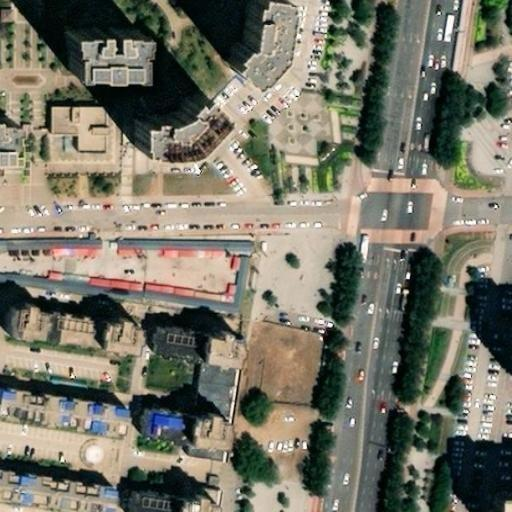building: (6, 400, 138, 450), (223, 6, 285, 101), (145, 117, 234, 179), (75, 34, 150, 85), (0, 482, 122, 512), (55, 130, 151, 160), (47, 335, 116, 373), (208, 380, 241, 443), (159, 341, 213, 378), (148, 428, 201, 464), (197, 466, 228, 512), (196, 437, 235, 471), (112, 344, 150, 378), (207, 351, 246, 384), (15, 330, 51, 363), (115, 0, 180, 12)
